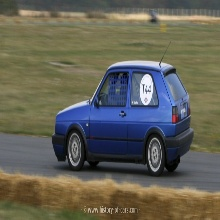no damage: (52, 59, 194, 177)
